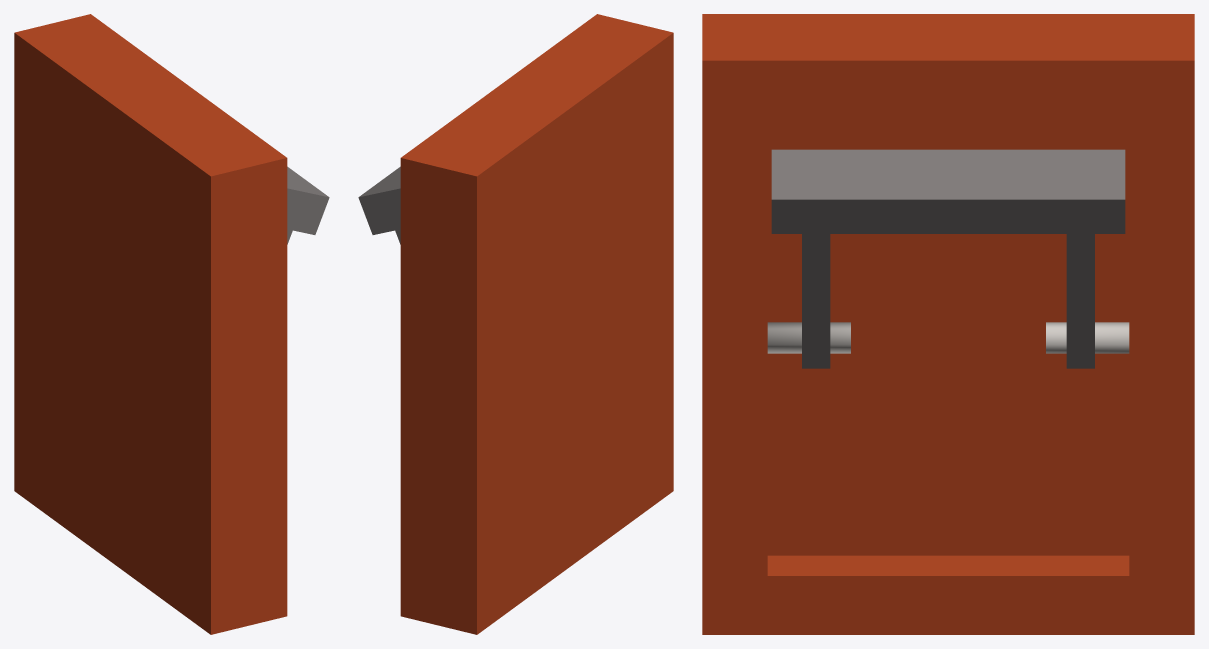
File: switch.fbx
3 views of the same model, side by side, from view 1: azimuth 30°, elevation 25°; view 2: azimuth 150°, elevation 25°; view 3: azimuth 270°, elevation 25° (orthographic). The views are drawn at different scales.
Visible parts, largest first — view 1: switch_wall, switch_lever; view 2: switch_wall, switch_lever; view 3: switch_wall, switch_lever.
Boxes of the visible parts, left/top/right/bottom form: switch_wall: left=14, top=14, right=287, bottom=634; switch_lever: left=287, top=166, right=329, bottom=244; switch_wall: left=400, top=14, right=673, bottom=634; switch_lever: left=358, top=166, right=400, bottom=244; switch_wall: left=702, top=14, right=1194, bottom=634; switch_lever: left=771, top=149, right=1125, bottom=368.
Size of the model in its own units: 63.18 by 27.17 by 81.32.
